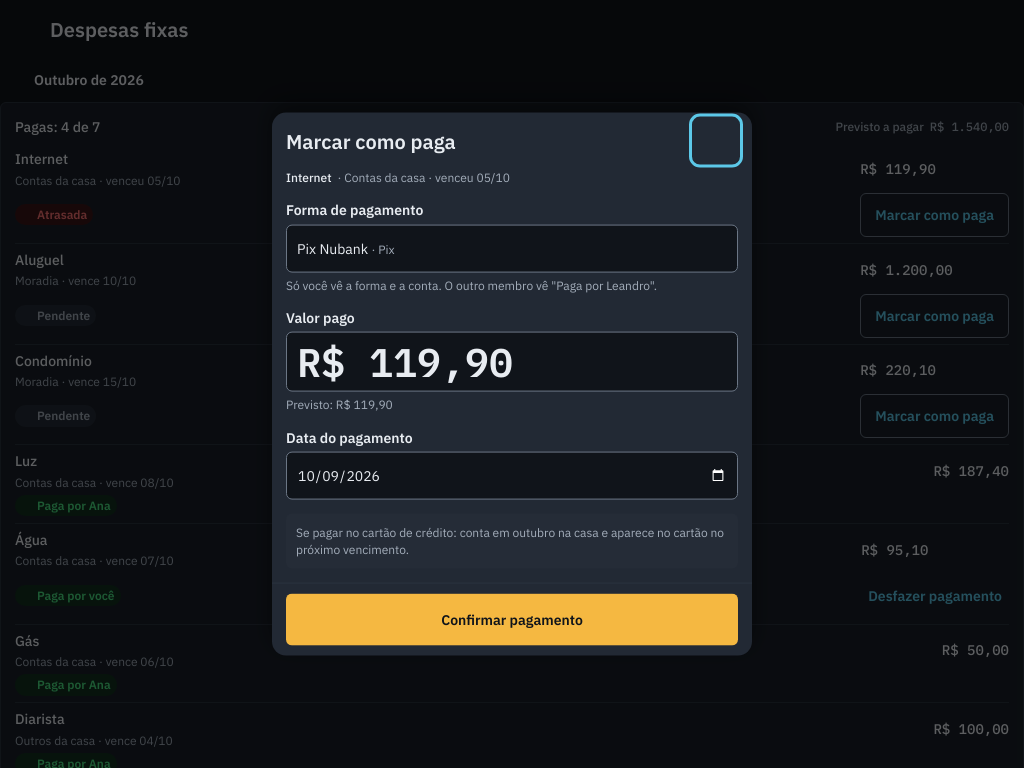
Scenario: Folha "Marcar como paga": confirmar › recusa valor_invalido no pagamento mostra o texto de data
Click the button "Confirmar pagamento" at (512, 619), box [286, 593, 738, 645]
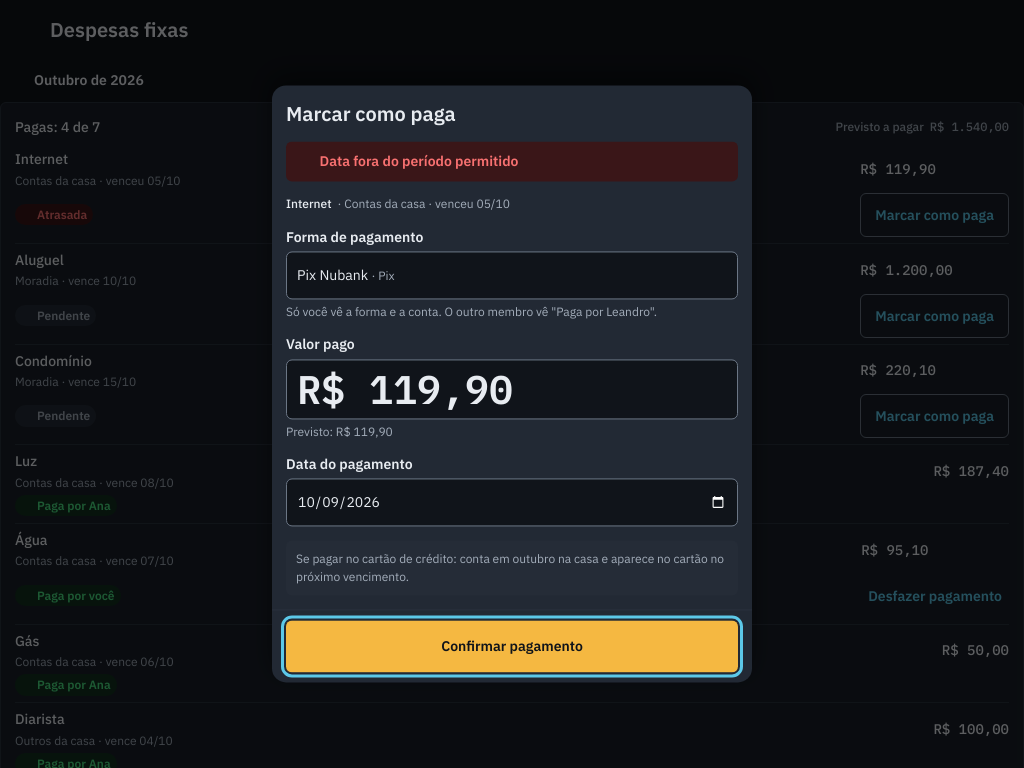
Expected: the message reads "Data fora do período permitido", [320, 152, 518, 170]
